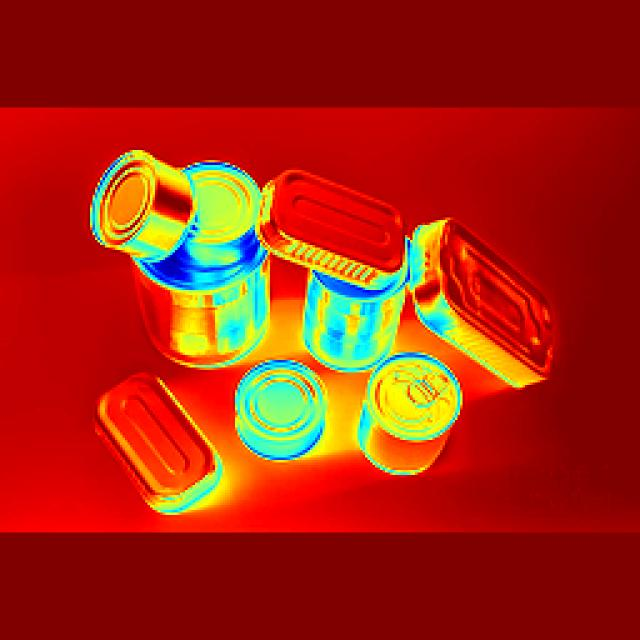Aluminium Food Cans: (410, 215, 581, 406), (90, 372, 216, 550), (362, 339, 462, 534), (233, 348, 331, 476), (89, 151, 194, 270)
